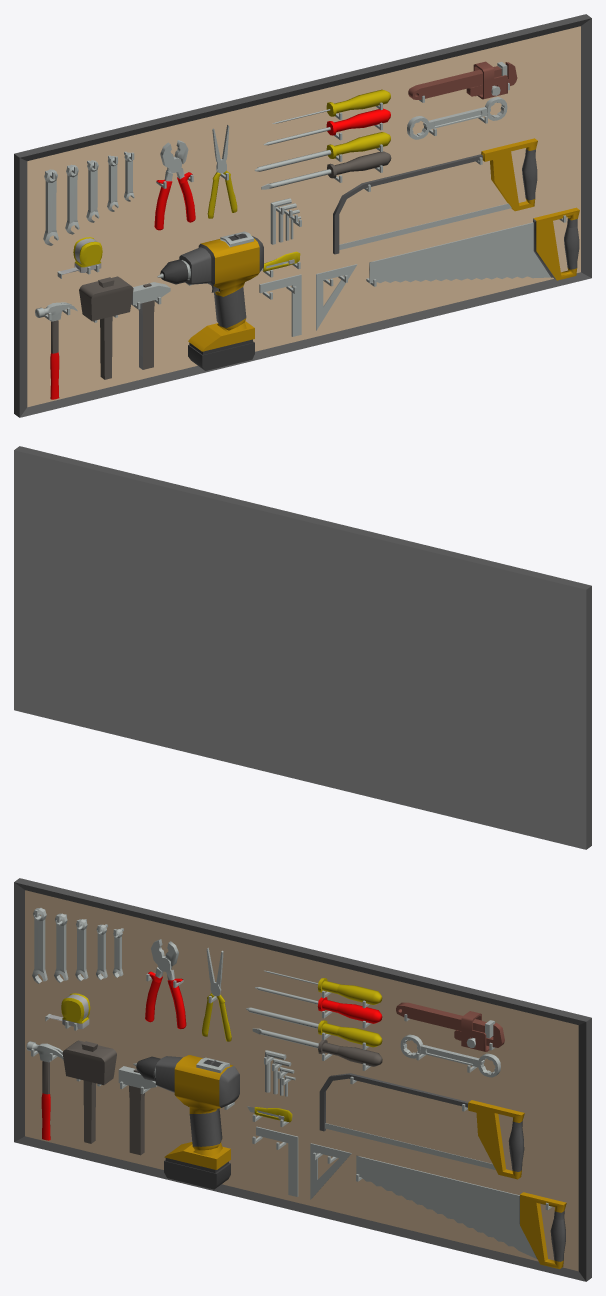
File: ToolBenchV1.fbx
3 renders of one model, top to bottom at view 1: azimuth 30°, elevation 25°; view 2: azimuth 150°, elevation 25°; view 3: azimuth 330°, elevation 25°, orthographic.
Visible parts, largest first — view 1: pCube1, pCube8, pCube21, polySurface11, pCube25, pCube19, pCube29, polySurface12, pCube17, polySurface15, polySurface14, pCube9 (+10 smaller); view 2: pCube1; view 3: pCube1, pCube8, pCube21, polySurface11, pCube25, pCube19, pCube29, polySurface12, pCube17, polySurface15, polySurface14, pCube9 (+10 smaller).
Part boxes in pixels (box(x1,y1,x2,y2)): pCube1: box(14, 14, 591, 417); pCube8: box(369, 207, 579, 283); pCube21: box(157, 231, 263, 370); polySurface11: box(333, 138, 537, 254); pCube25: box(79, 276, 133, 379); pCube19: box(408, 61, 507, 99); pCube29: box(131, 282, 170, 369); polySurface12: box(255, 132, 390, 171); pCube17: box(407, 97, 507, 139); polySurface15: box(261, 151, 391, 189); polySurface14: box(263, 108, 390, 145); pCube9: box(35, 302, 77, 399); pCube1: box(14, 446, 591, 849); pCube1: box(14, 878, 591, 1281); pCube8: box(356, 1155, 566, 1269); pCube21: box(133, 1055, 239, 1189); polySurface11: box(319, 1073, 524, 1179); pCube25: box(62, 1040, 116, 1143); pCube19: box(396, 1002, 494, 1051); pCube29: box(118, 1066, 156, 1155); polySurface12: box(246, 1007, 382, 1047); pCube17: box(400, 1034, 500, 1077); polySurface15: box(252, 1028, 382, 1066); polySurface14: box(255, 987, 382, 1023); pCube9: box(26, 1041, 63, 1140).
Bounding box in the file's own units: 32.64 × 14.18 × 2.27.
